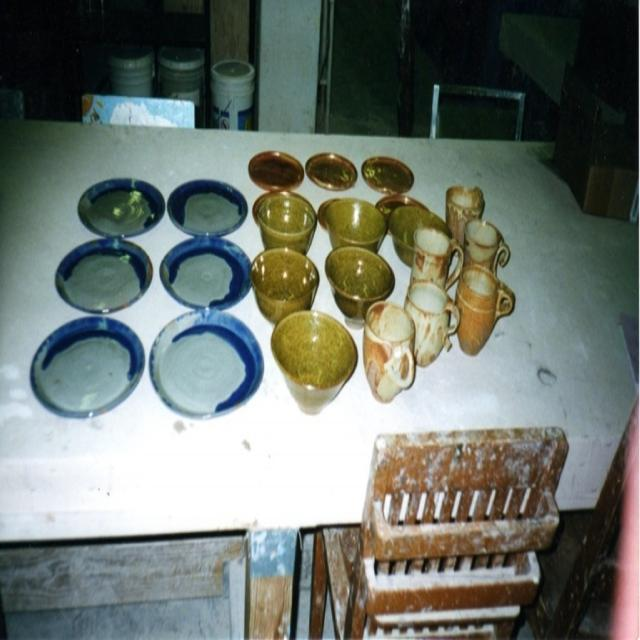non-organic waste: (154, 296, 266, 439), (32, 301, 151, 426), (49, 223, 150, 336), (80, 158, 164, 269), (159, 230, 261, 310)
